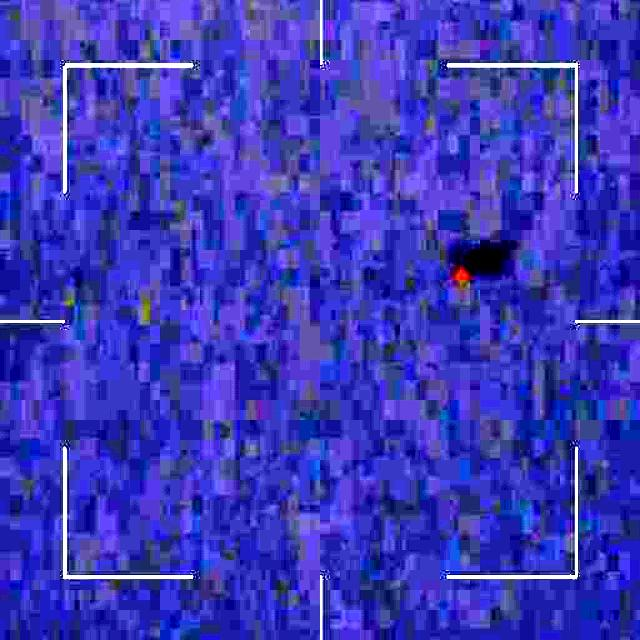bird: (448, 251, 484, 300)
